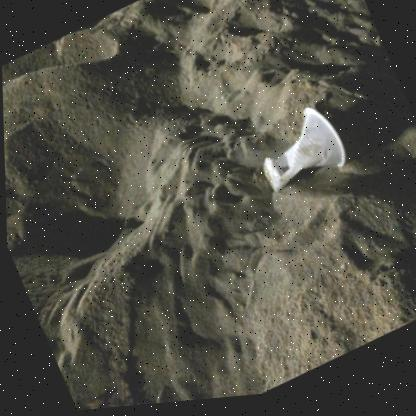Plastic: (262, 116, 344, 197)
